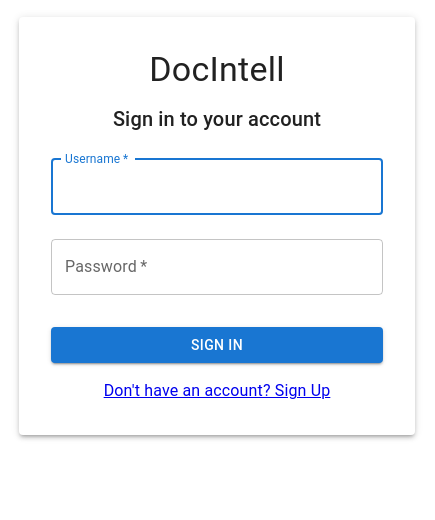
it: LoginPage › displays error message on login failure
In the field labelled "Username *": x=217, y=187 [51,159,383,215], type "testuser"
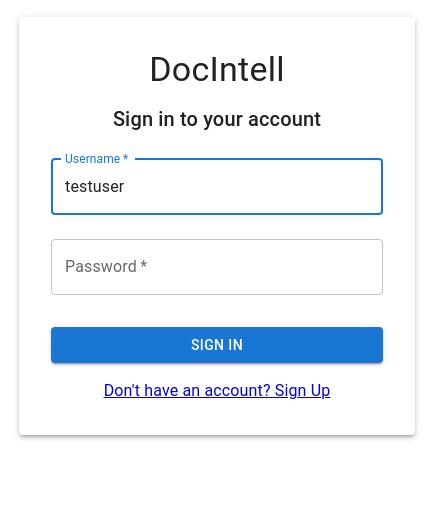
In the password field labelled "Password *": x=217, y=267 [51,239,383,295], type "wrongpass"
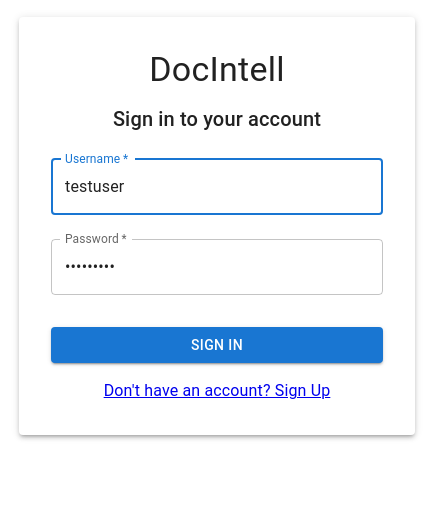
Click the button "Sign In": x=217, y=345 [51,327,383,363]
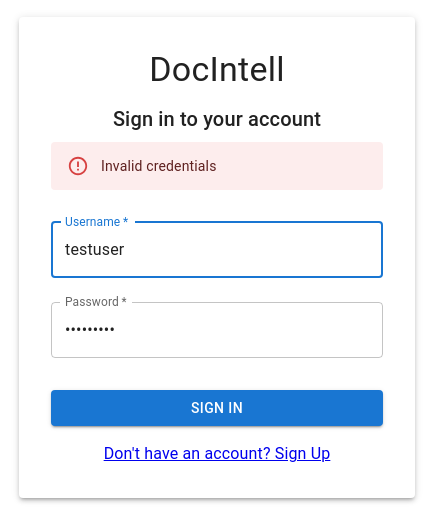
Expected: the text "Invalid credentials" is shown, [101,158,216,174]
